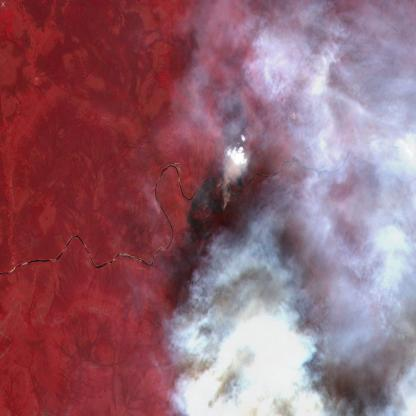fire: (182, 178, 230, 243)
